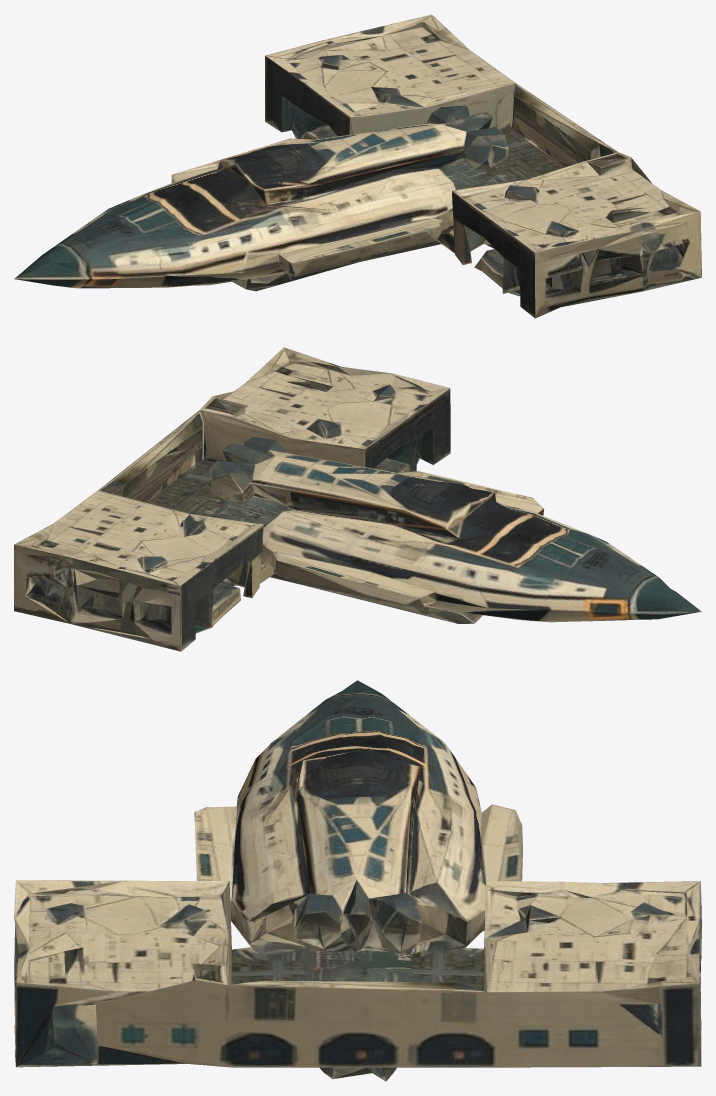
The model's file is nation-m-scout.glb.
3 views of the same model, one above another, from view 1: azimuth 30°, elevation 25°; view 2: azimuth 150°, elevation 25°; view 3: azimuth 270°, elevation 25° (orthographic). The views are drawn at different scales.
Bounding box in the file's own units: 1.9 × 0.3922 × 1.61.
Materials: 1 (1 with a texture image).
